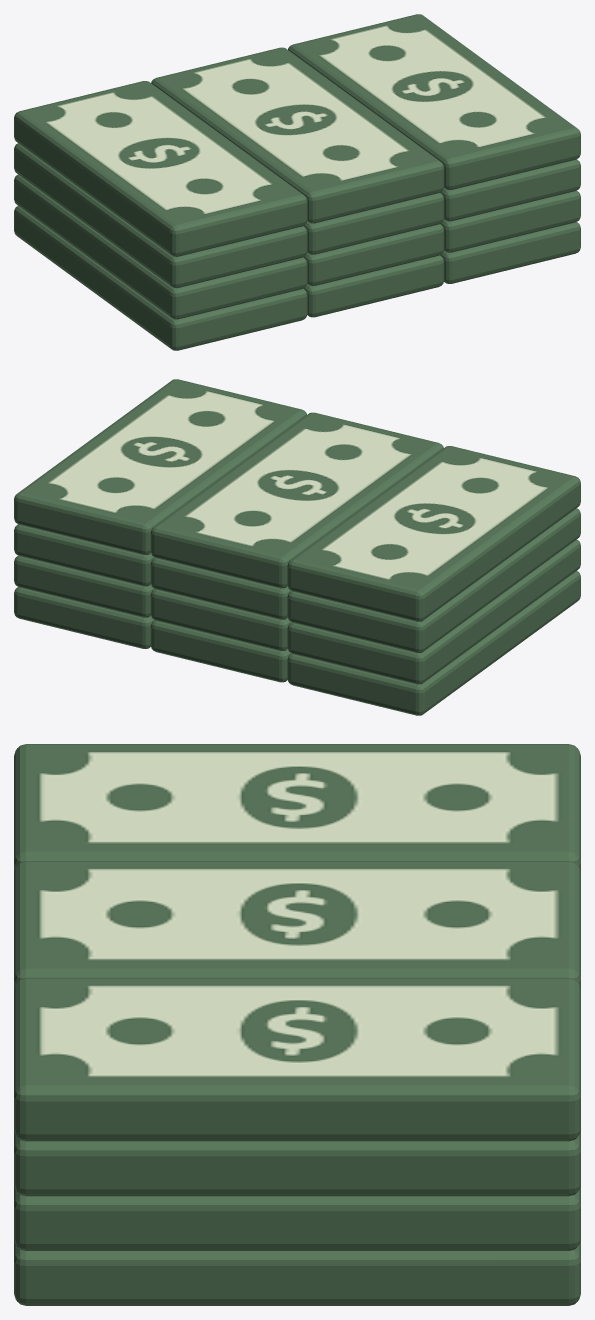
File: M_MoneyStack.fbx
The picture shows the model from 3 angles, top to bottom: view 1: azimuth 30°, elevation 25°; view 2: azimuth 150°, elevation 25°; view 3: azimuth 270°, elevation 25°; orthographic projection. The views are drawn at different scales.
Visible parts, largest first — view 1: Cube.009, Cube.010, Cube.011, Cube, Cube.003, Cube.006, Cube.001, Cube.004, Cube.007, Cube.002, Cube.005, Cube.008; view 2: Cube.009, Cube.010, Cube.011, Cube, Cube.003, Cube.006, Cube.001, Cube.004, Cube.007, Cube.002, Cube.005, Cube.008; view 3: Cube.011, Cube.009, Cube.010, Cube.008, Cube.002, Cube.005.
Boxes of the visible parts, left/top/right/bottom form: Cube.009: left=14, top=81, right=307, bottom=256; Cube.010: left=151, top=47, right=444, bottom=223; Cube.011: left=288, top=14, right=580, bottom=189; Cube: left=14, top=206, right=307, bottom=350; Cube.003: left=14, top=174, right=307, bottom=319; Cube.006: left=14, top=143, right=307, bottom=288; Cube.001: left=303, top=255, right=444, bottom=317; Cube.004: left=303, top=224, right=444, bottom=285; Cube.007: left=303, top=193, right=444, bottom=254; Cube.002: left=440, top=222, right=580, bottom=283; Cube.005: left=440, top=190, right=580, bottom=252; Cube.008: left=440, top=159, right=580, bottom=221; Cube.009: left=287, top=446, right=580, bottom=621; Cube.010: left=150, top=412, right=443, bottom=588; Cube.011: left=14, top=379, right=306, bottom=554; Cube: left=287, top=571, right=580, bottom=715; Cube.003: left=287, top=539, right=580, bottom=684; Cube.006: left=287, top=508, right=580, bottom=653; Cube.001: left=150, top=620, right=291, bottom=682; Cube.004: left=150, top=589, right=291, bottom=650; Cube.007: left=150, top=558, right=291, bottom=619; Cube.002: left=14, top=587, right=154, bottom=648; Cube.005: left=14, top=555, right=154, bottom=617; Cube.008: left=14, top=524, right=154, bottom=586; Cube.011: left=14, top=977, right=580, bottom=1141; Cube.009: left=14, top=744, right=580, bottom=871; Cube.010: left=14, top=861, right=580, bottom=988; Cube.008: left=14, top=1130, right=580, bottom=1196; Cube.002: left=14, top=1240, right=580, bottom=1305; Cube.005: left=14, top=1185, right=580, bottom=1250.
Size of the model in its own units: 85.21 by 24.86 by 58.24.
